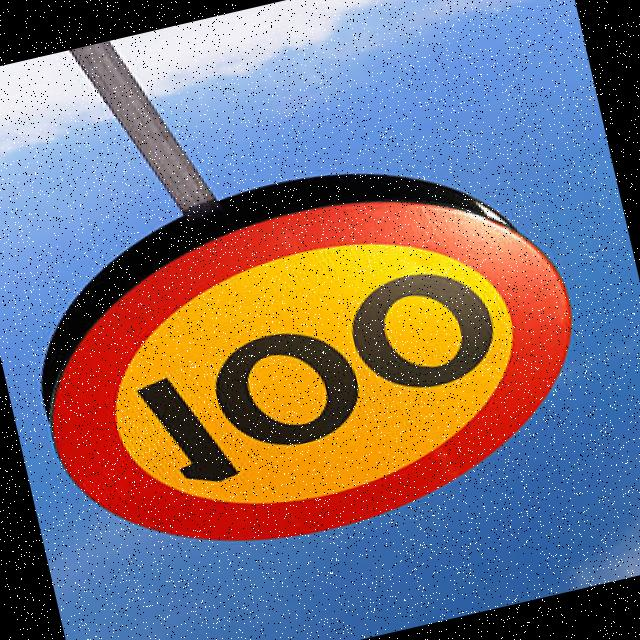speed_limit_100: (8, 140, 620, 598)
